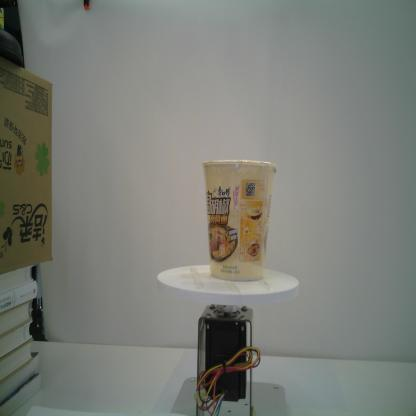Instant Noodles: (201, 158, 277, 282)
